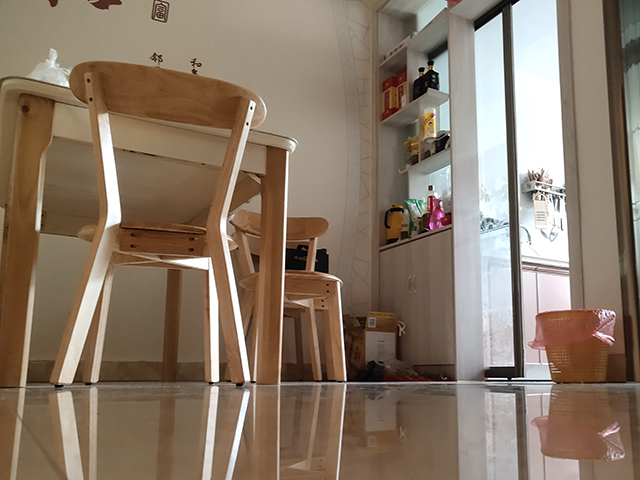cabinet: (370, 225, 477, 383)
stool: (48, 59, 268, 389), (226, 205, 349, 384)
table: (1, 74, 301, 386)
trashcan: (534, 308, 618, 385)
